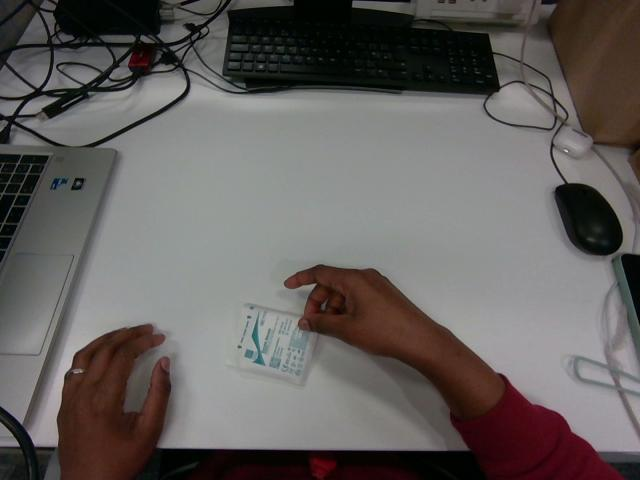gauze: (227, 304, 316, 384)
